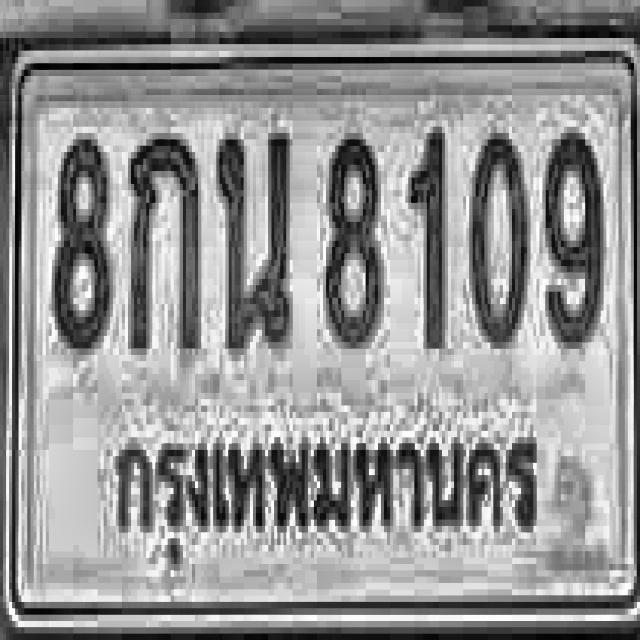license-plate: (3, 38, 640, 640)
